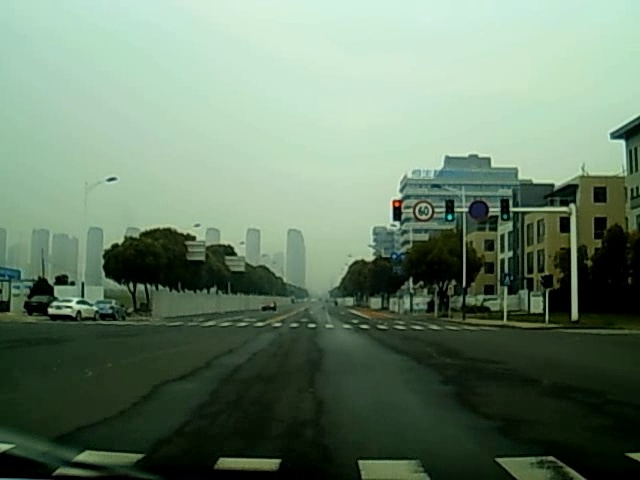Traffic_Light_go: (501, 198, 510, 221), (445, 199, 454, 221)
Traffic_Light_stop: (392, 200, 401, 220)
